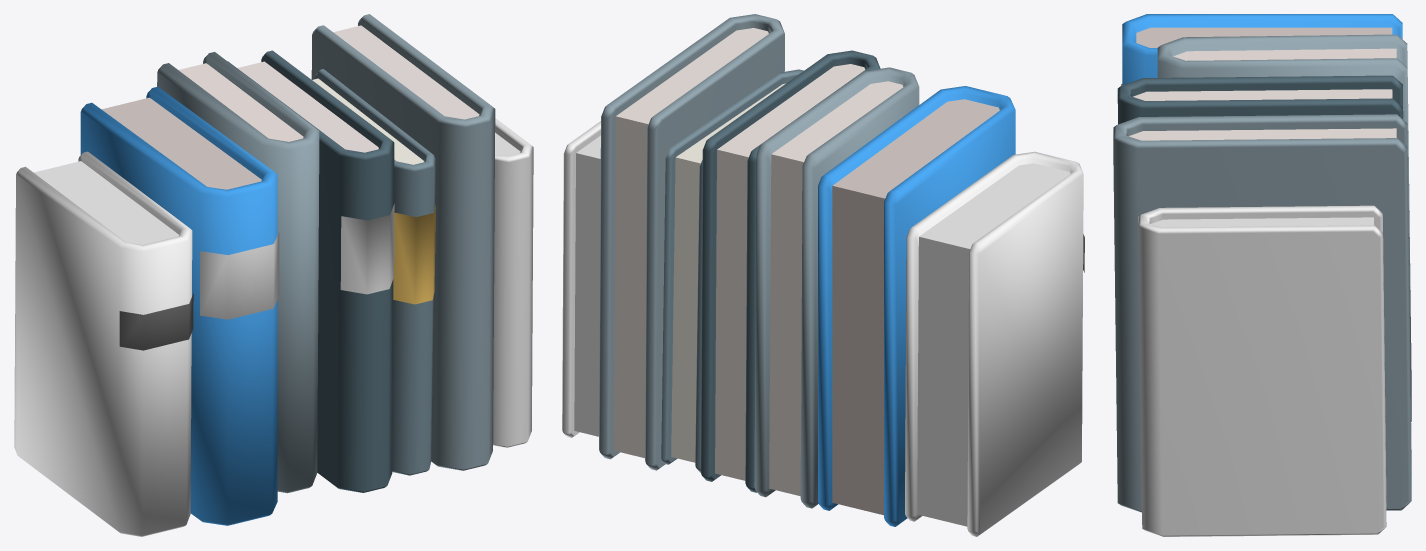
The model's file is prop_046.fbx.
3 renders of one model, left to right at view 1: azimuth 30°, elevation 25°; view 2: azimuth 150°, elevation 25°; view 3: azimuth 270°, elevation 25°, orthographic. The views are drawn at different scales.
Parts seen in each view (by area): view 1: prop_046; view 2: prop_046; view 3: prop_046.
Boxes of the visible parts, <box> form: prop_046: <box>14,14,533,536</box>; prop_046: <box>562,14,1084,536</box>; prop_046: <box>1113,14,1411,536</box>.
Size of the model in its own units: 52.95 by 31.3 by 43.09.
